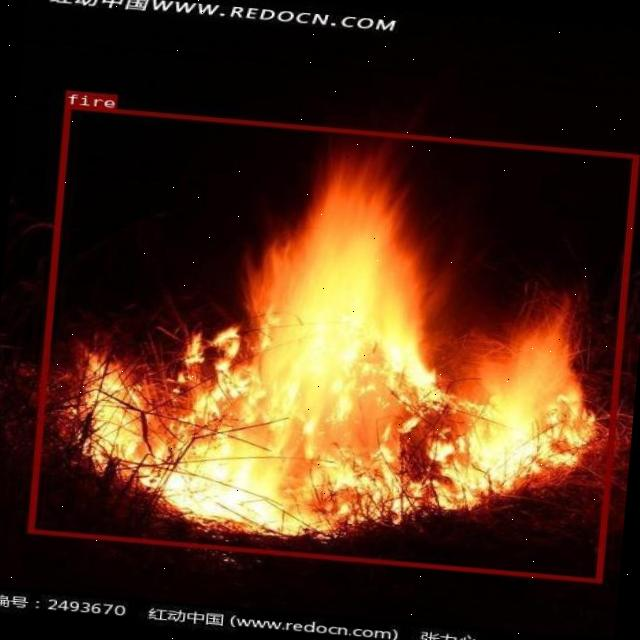fire: (28, 104, 638, 581)
